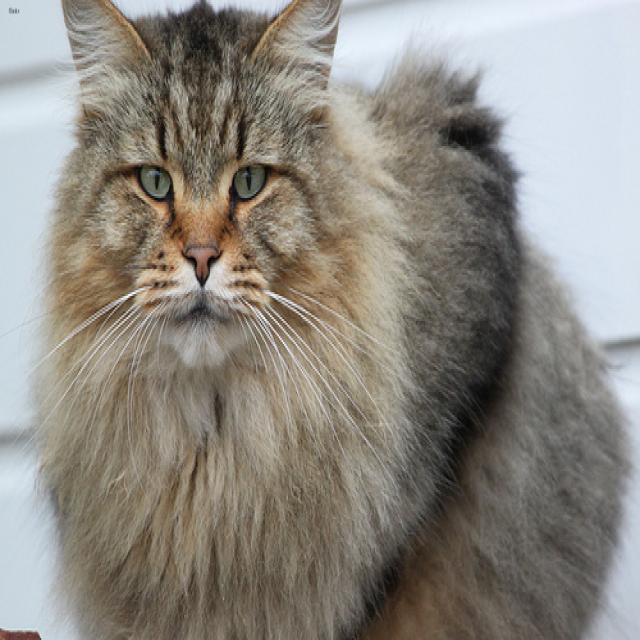Maine_Coon: (55, 0, 343, 374)
